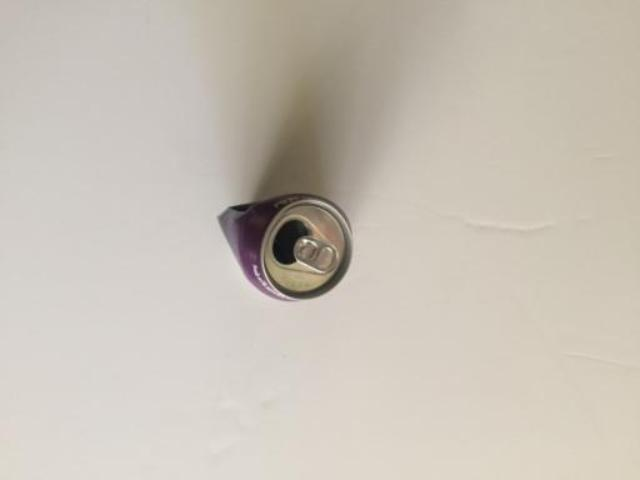metal: (218, 192, 349, 298)
